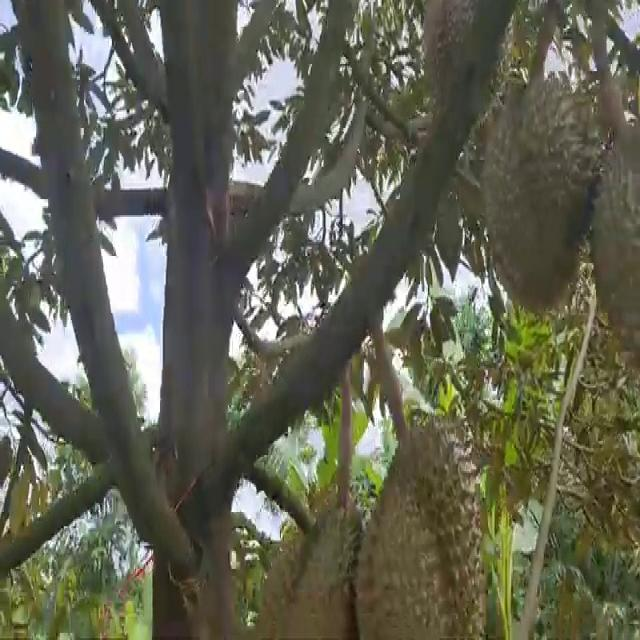durian: (472, 56, 611, 326), (353, 417, 496, 638), (250, 477, 368, 638), (587, 124, 639, 384), (415, 1, 480, 108)
